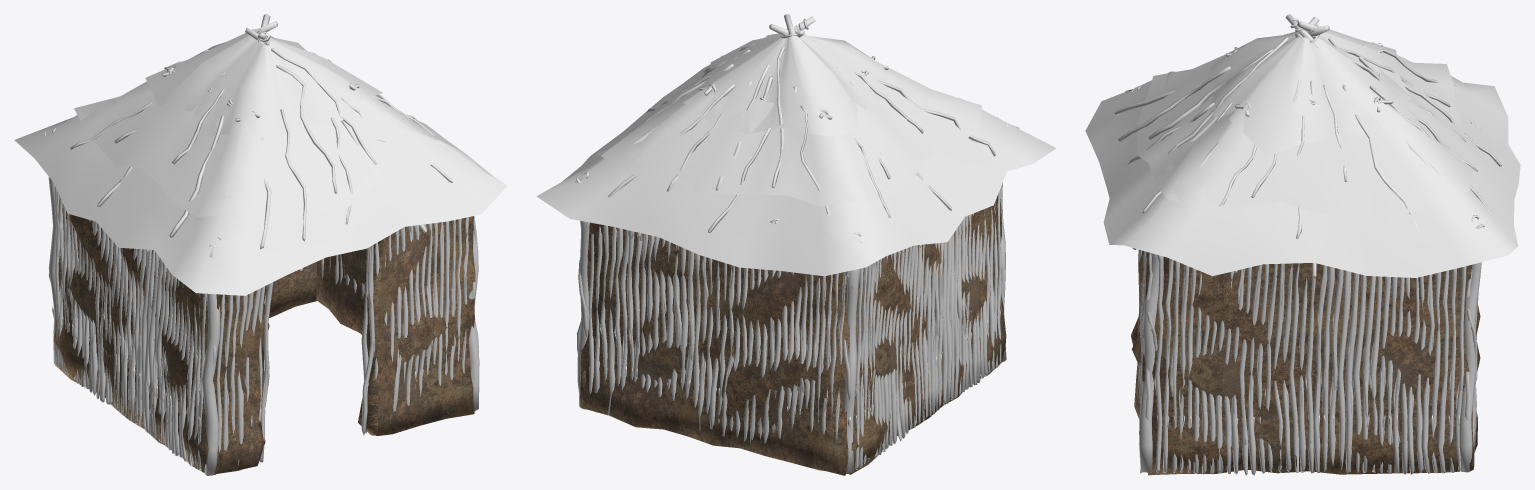
The model's file is midpoly_african_hut_005.fbx.
The picture shows the model from 3 angles, left to right: view 1: azimuth 30°, elevation 25°; view 2: azimuth 150°, elevation 25°; view 3: azimuth 270°, elevation 25°; orthographic projection. The views are drawn at different scales.
Visible parts, largest first — view 1: midpoly_african_hut_005; view 2: midpoly_african_hut_005; view 3: midpoly_african_hut_005.
Part boxes in pixels (bbox=[...]): midpoly_african_hut_005: bbox=[14, 14, 507, 475]; midpoly_african_hut_005: bbox=[536, 14, 1056, 475]; midpoly_african_hut_005: bbox=[1085, 14, 1520, 475].
Bounding box in the file's own units: 267 × 270 × 273.
